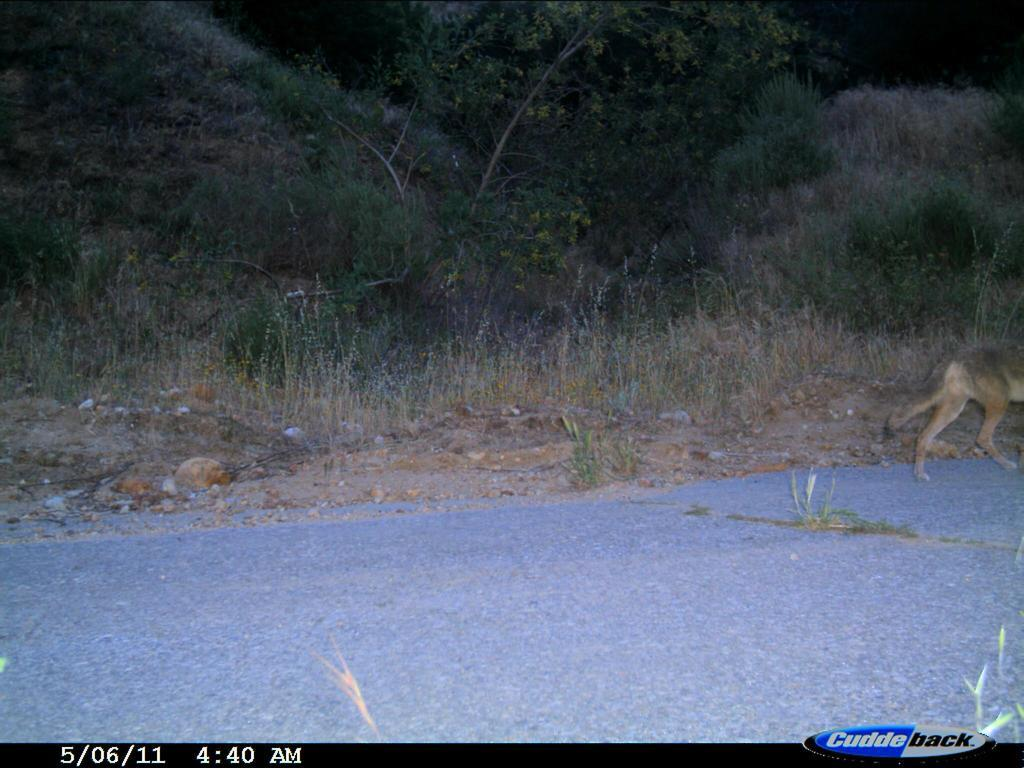coyote: (888, 336, 1023, 482)
